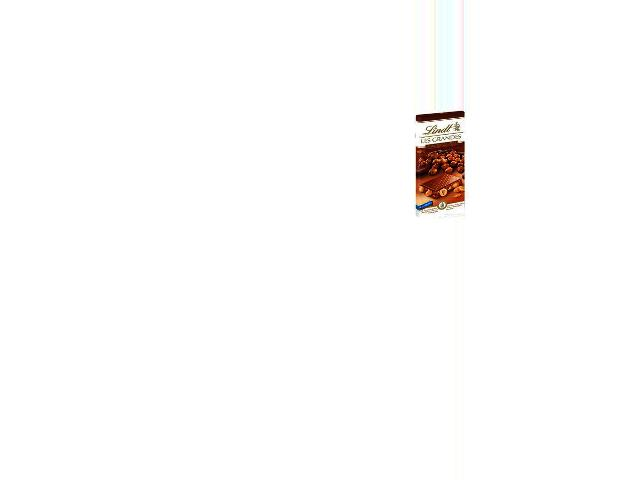chocolate: (412, 114, 472, 211)
